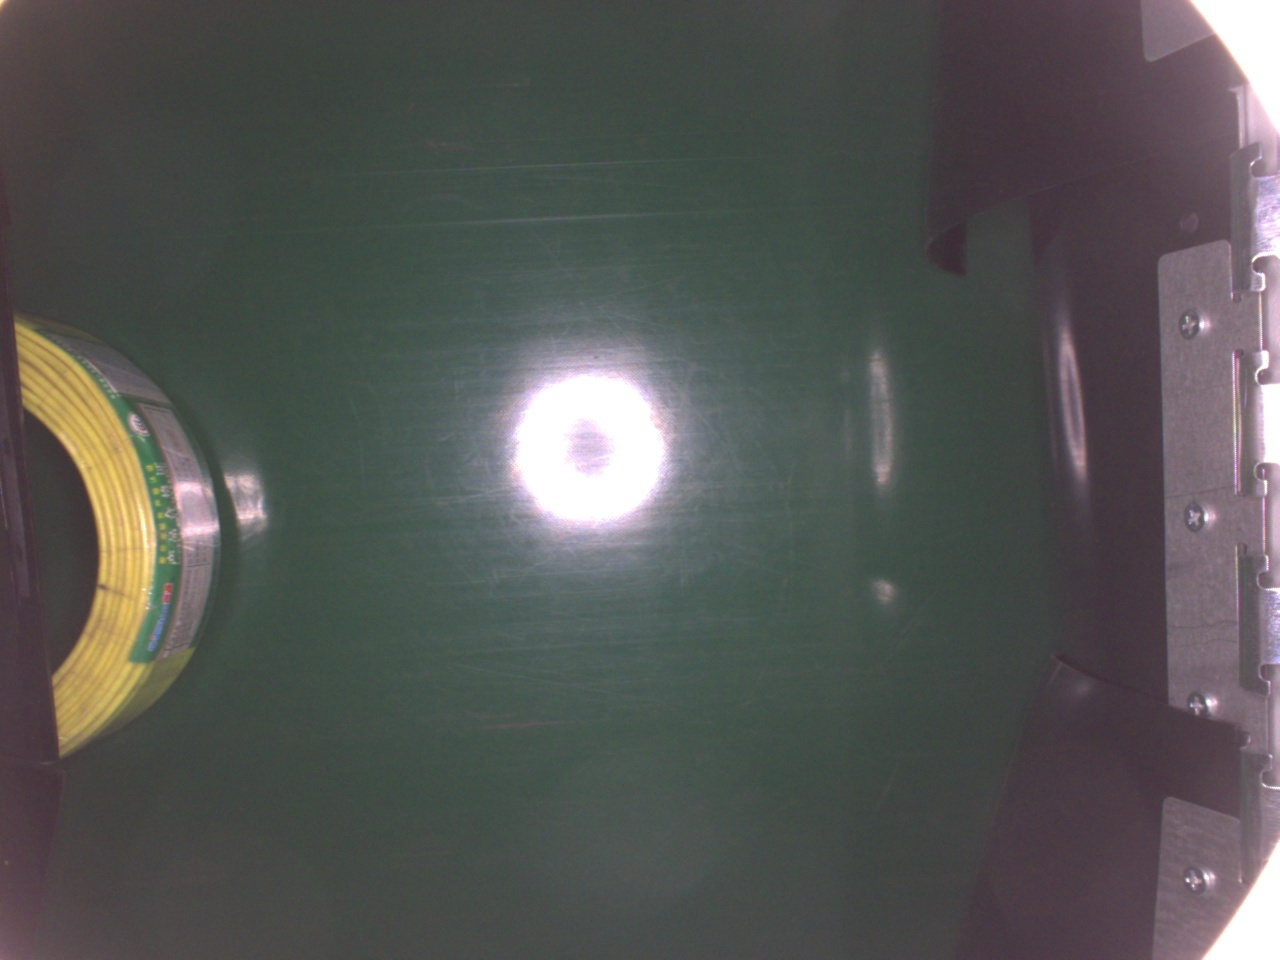yellow: (15, 303, 223, 767)
